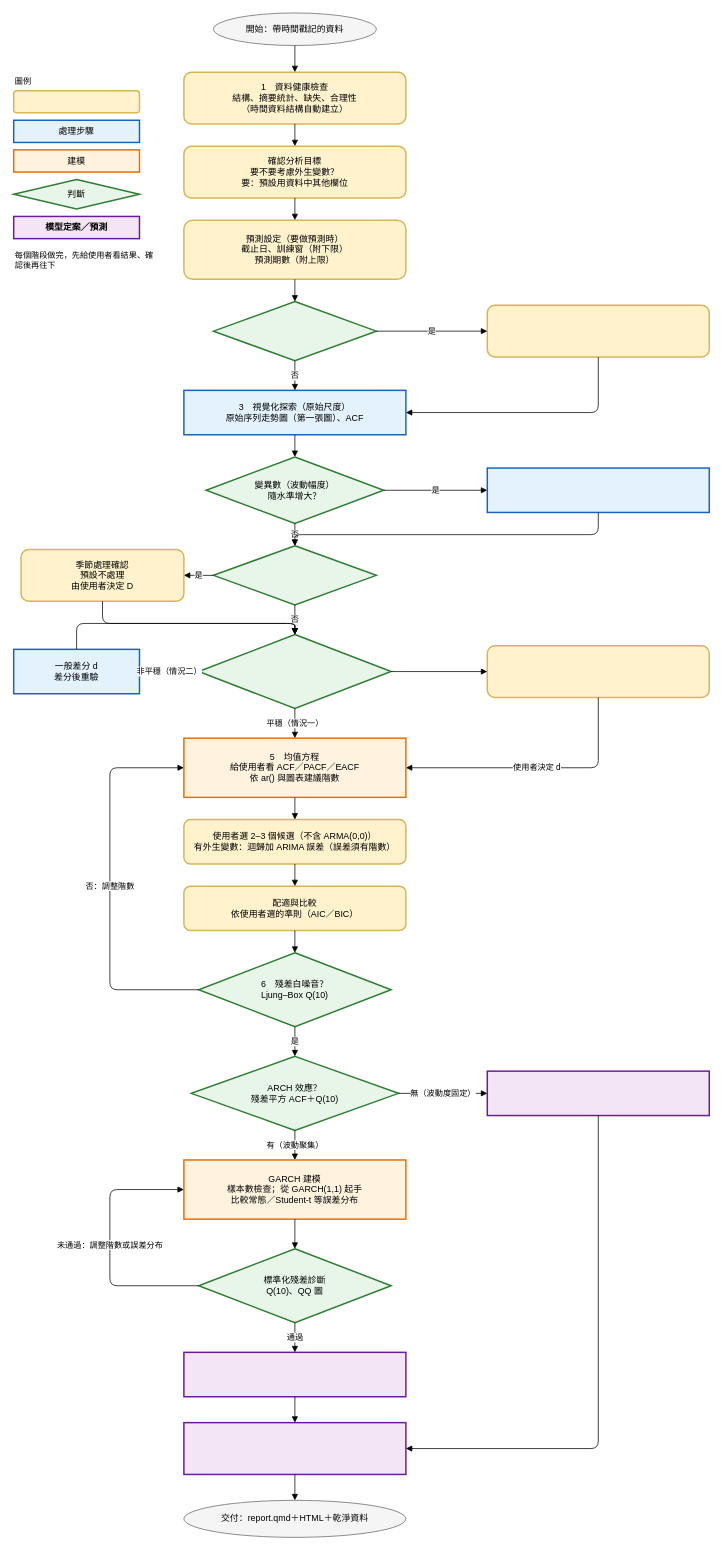
This 722x1550 diagram has some shape labels left out. Here are the shapes that lost their labels. From the top down, the centre of each, then its label:
the point at 76,101: 使用者決定／確認
the point at 294,330: 資料有缺失？
the point at 598,330: 2 缺失值處理 列出選項與依據，由使用者選 有樣本外時只用訓練段
the point at 598,490: 對數或 Box–Cox 轉換前後各算一次分段標準差
the point at 294,575: 明顯季節性？
the point at 294,671: 4 平穩性檢定 ADF 與 KPSS
the point at 598,671: 結果衝突（情況三／四） 列出 ADF 與 KPSS 的結果 由使用者決定 d
the point at 598,1093: 模型定案：ARIMA （或迴歸加 ARIMA 誤差）
the point at 294,1374: 模型定案：ARIMA-GARCH （或迴歸加 GARCH 誤差）
the point at 294,1448: 7 預測 多步預測區間 固定參數一步預測（有樣本外時）
